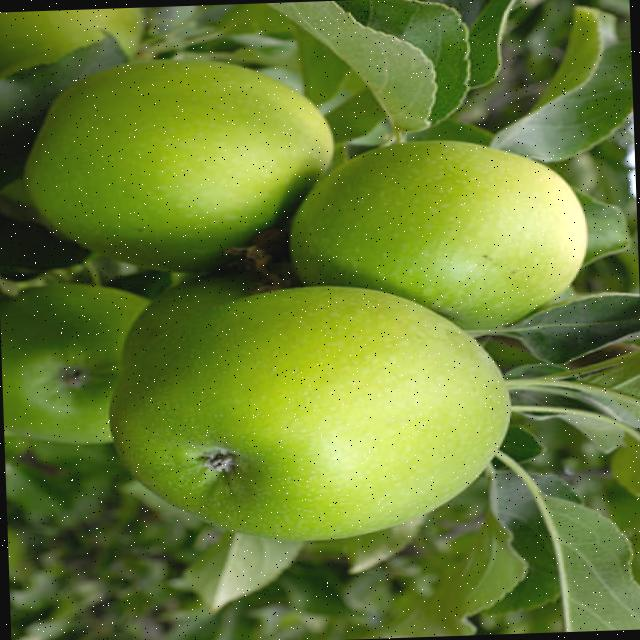Unripe: (105, 280, 518, 548), (21, 52, 338, 277), (286, 132, 592, 338)
